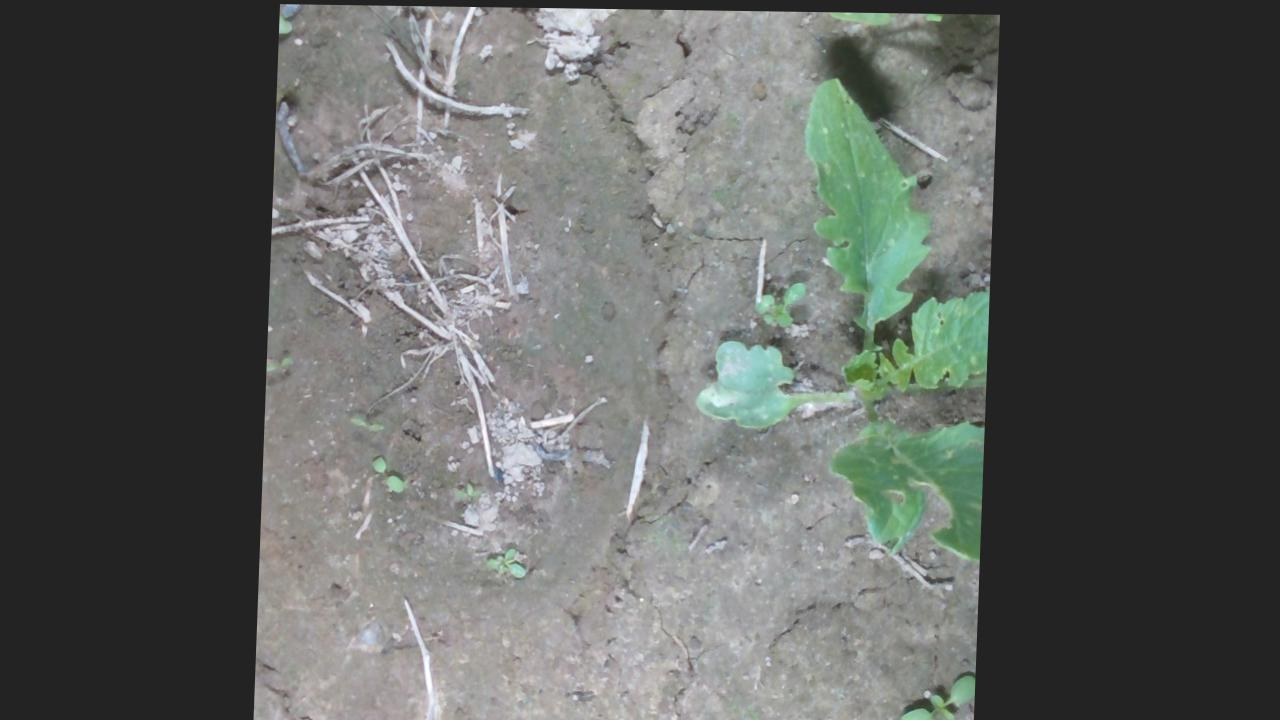weed: (754, 279, 809, 327), (372, 453, 409, 493), (349, 416, 386, 432)
